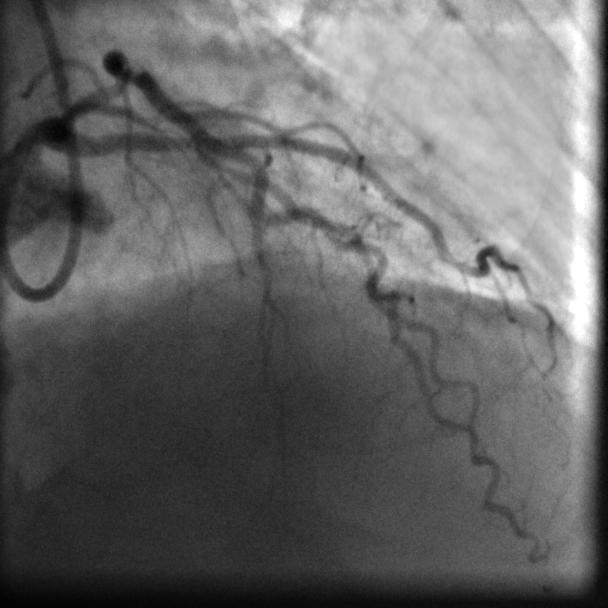Stenosis: (113, 51, 145, 97)
